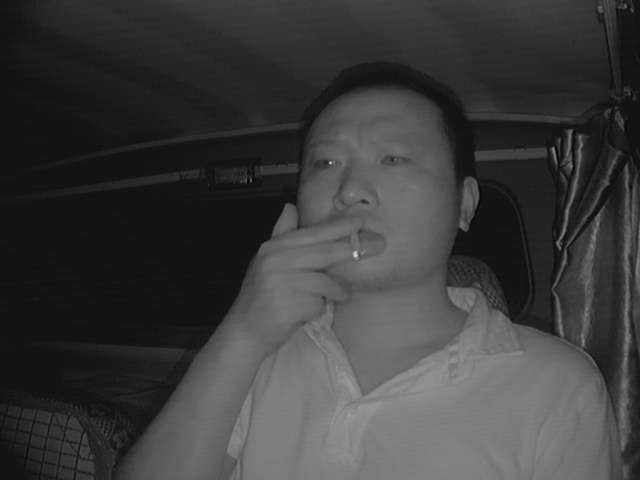hand: (243, 197, 379, 336)
